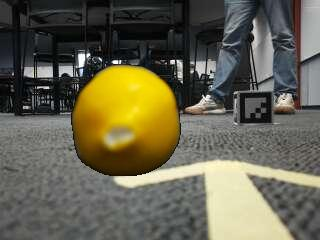lemon: (72, 65, 179, 177)
